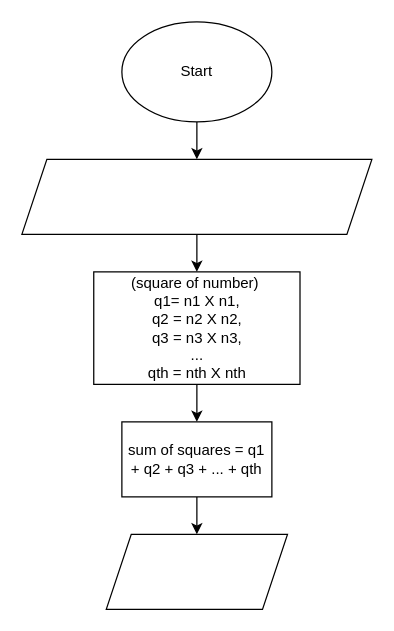
This 394x631 diagram has some shape labels left out. Here are the shapes that lost their labels. From the top down, the centre of each, then its label:
At (x=196, y=196): "input numbers = n1, n2, n3, ... , nth".
At (x=196, y=571): "Print sum of squares".
